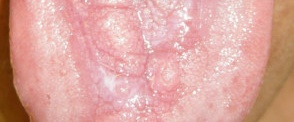SJS-TEN: (63, 1, 202, 120)
